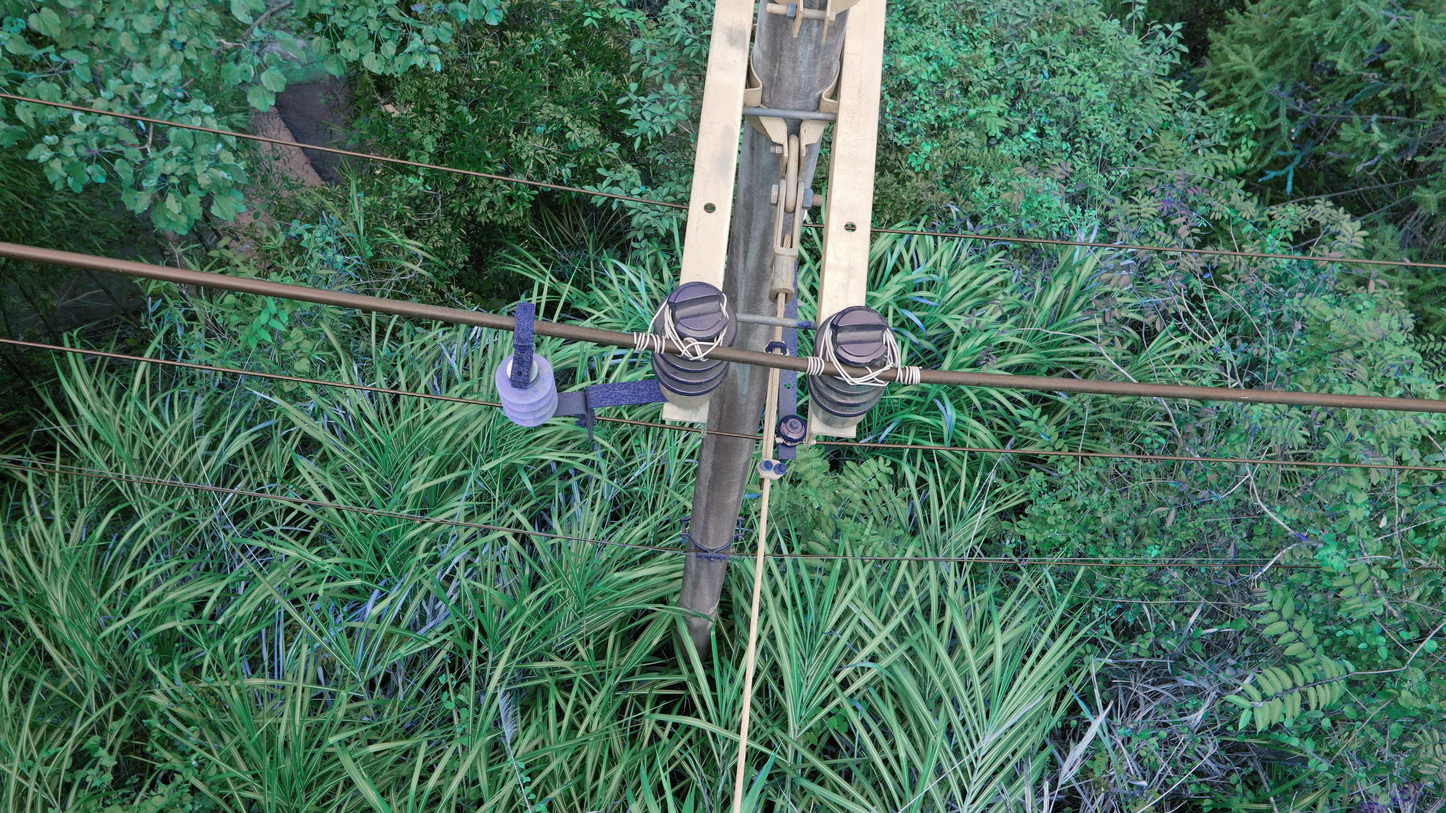severe_soiling_no_discharge_whole: (806, 306, 900, 427)
